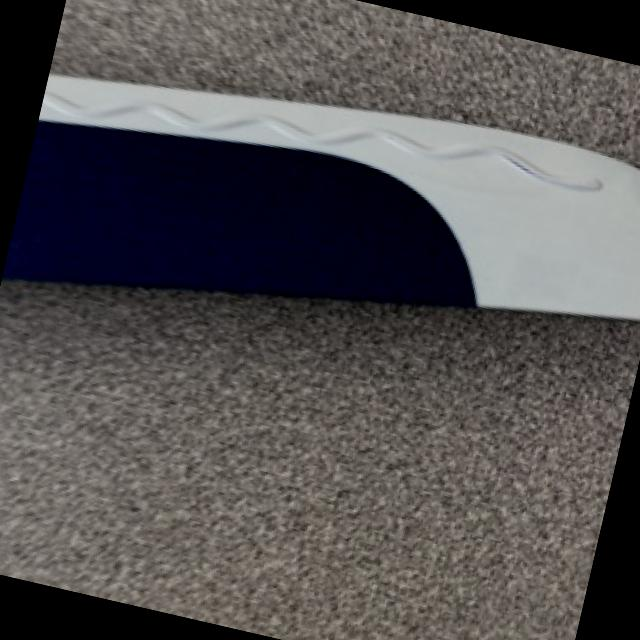healthy: (5, 72, 640, 316)
